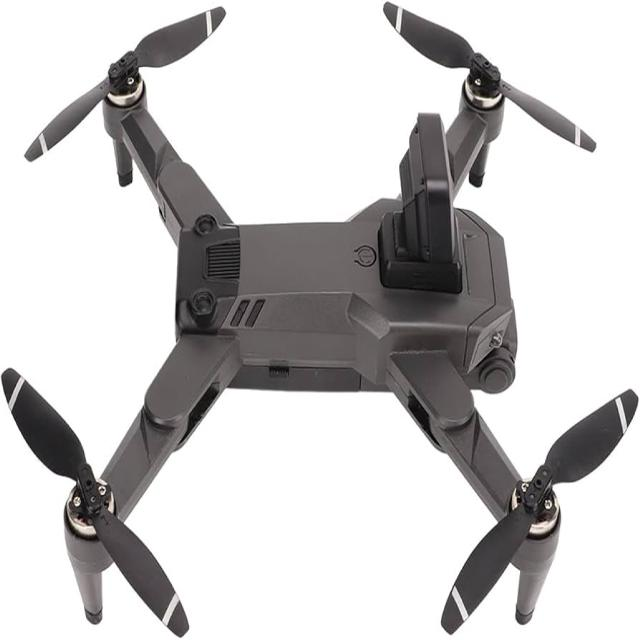drone: (2, 4, 630, 635)
